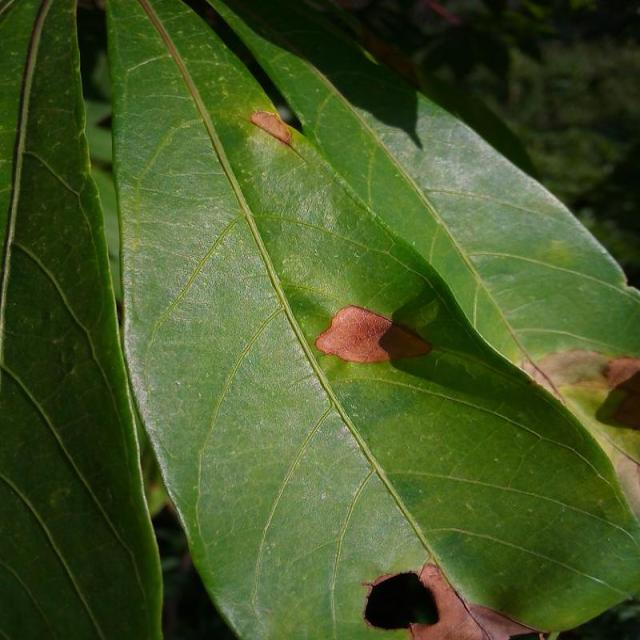cassava leaf: (105, 0, 639, 638), (2, 0, 165, 638)
